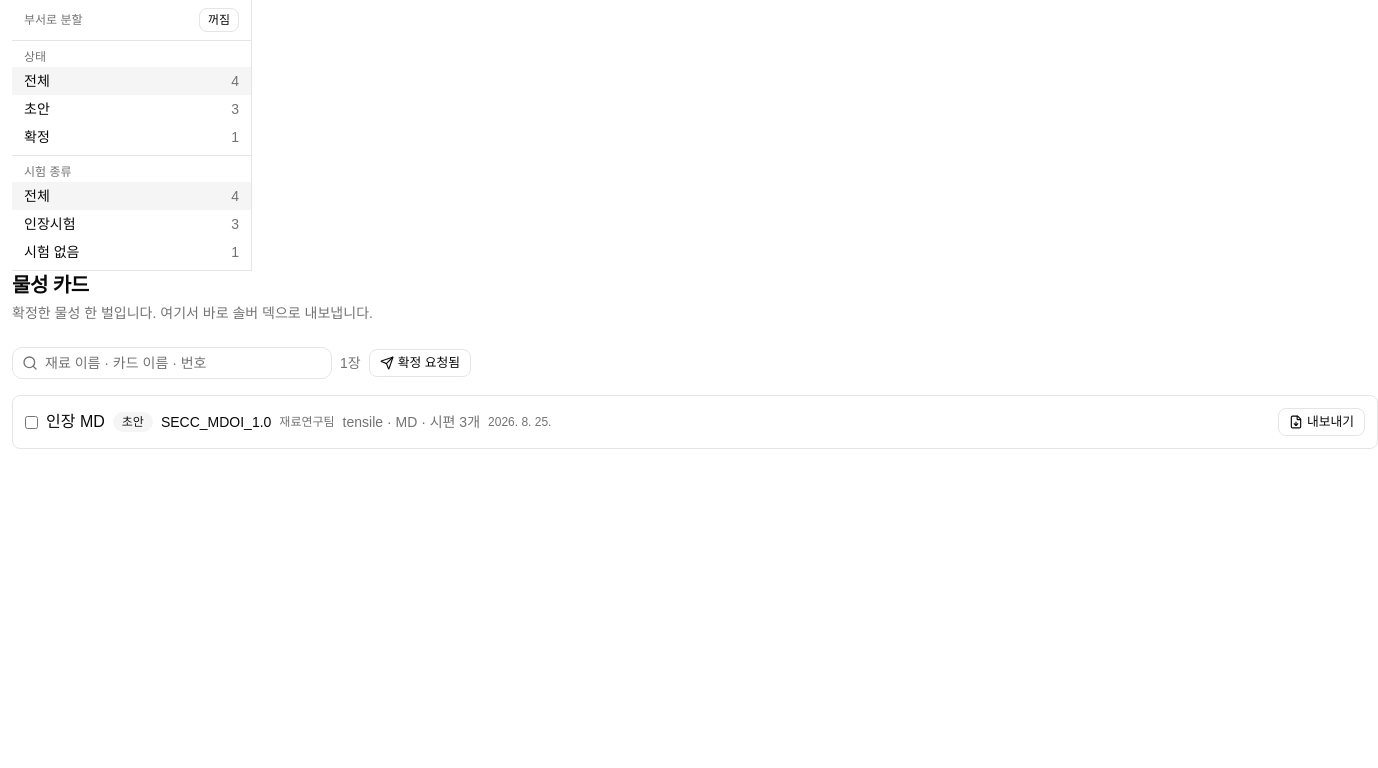
물성 카드 목록 › 부서는 켜야 보인다
Expected: the button "인장시험 3" is shown, [12, 210, 251, 238]
Click the button "꺼짐" at (219, 20), box [199, 8, 239, 32]
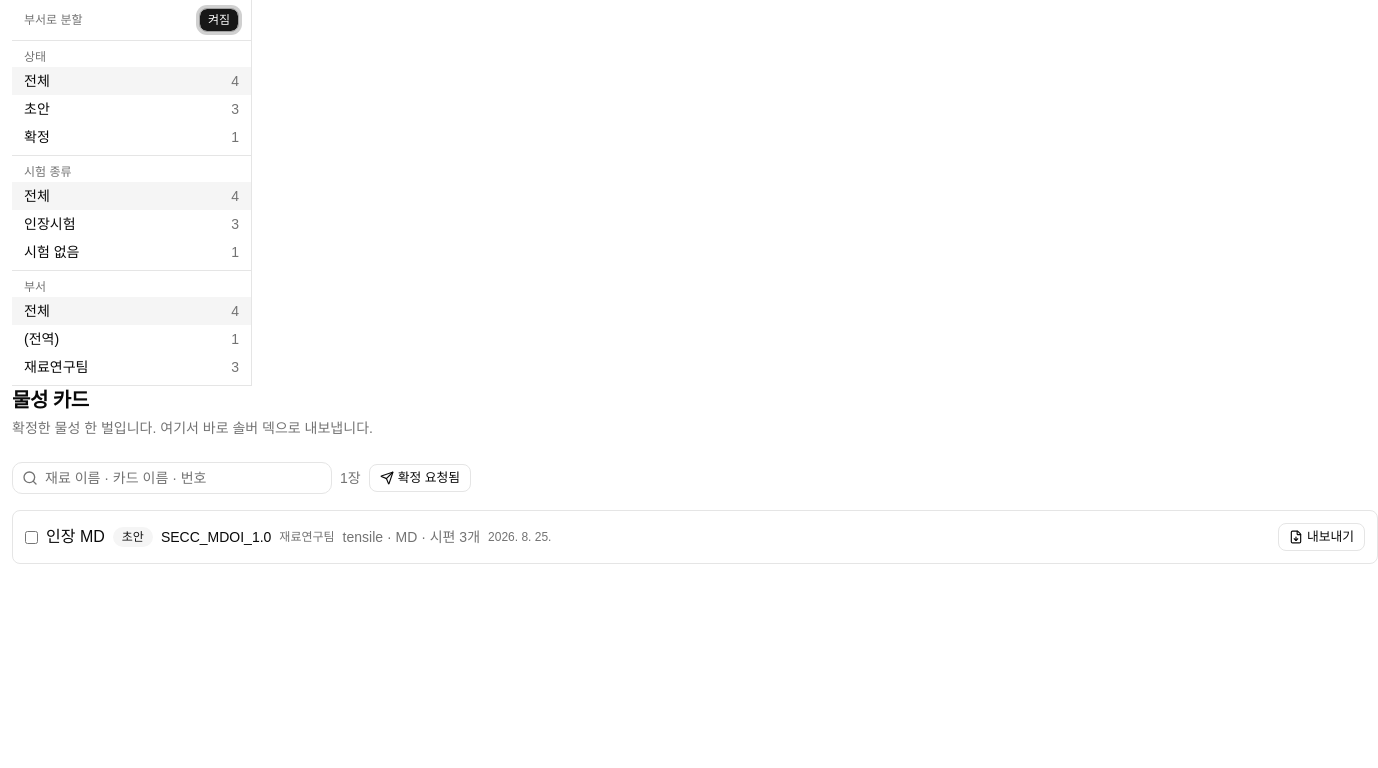
Expected: the button "재료연구팀 3" is shown, [12, 353, 251, 381]
